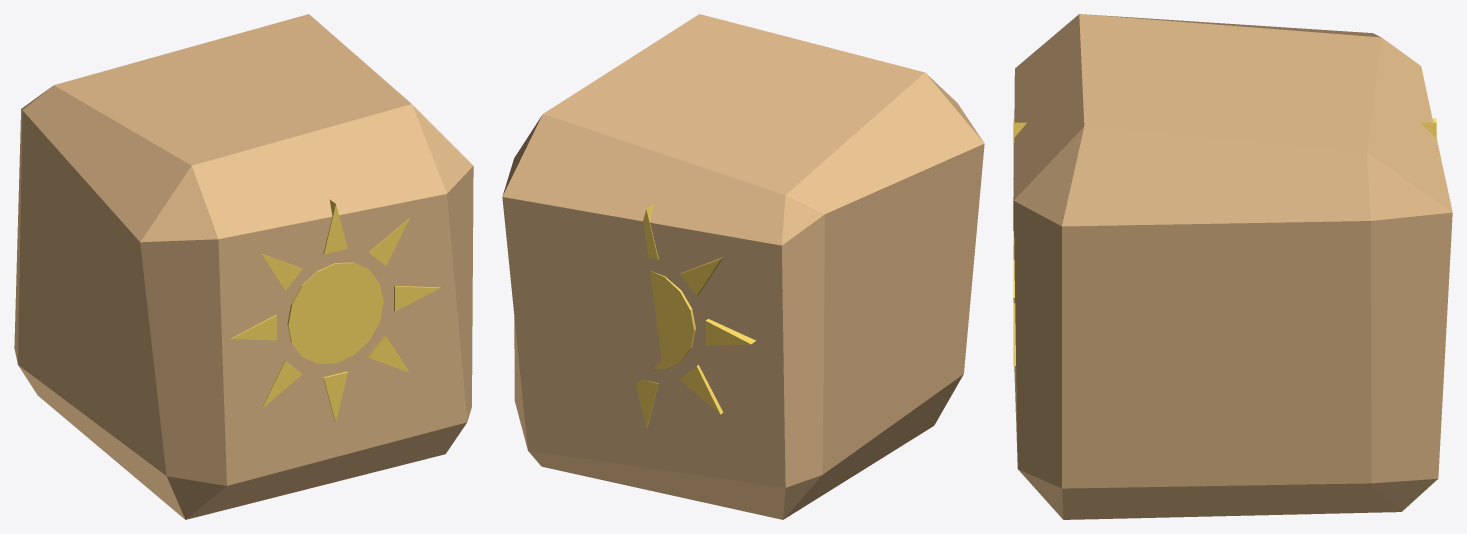
Rendered from SD_FX_SandstoneChunk.fbx.
3 renders of one model, left to right at view 1: azimuth 30°, elevation 25°; view 2: azimuth 150°, elevation 25°; view 3: azimuth 270°, elevation 25°, orthographic. The views are drawn at different scales.
Parts seen in each view (by area): view 1: SandstoneChunk, Glyph; view 2: SandstoneChunk, GlyphBack; view 3: SandstoneChunk, Glyph.
Boxes of the visible parts, x1,y1,x2,y2 form: SandstoneChunk: (14, 14, 473, 519); Glyph: (231, 199, 440, 422); SandstoneChunk: (502, 14, 984, 519); GlyphBack: (636, 204, 755, 428); SandstoneChunk: (1013, 14, 1452, 519); Glyph: (1013, 118, 1026, 365).
Bounding box in the file's own units: 1.04 × 1.08 × 1.1.
